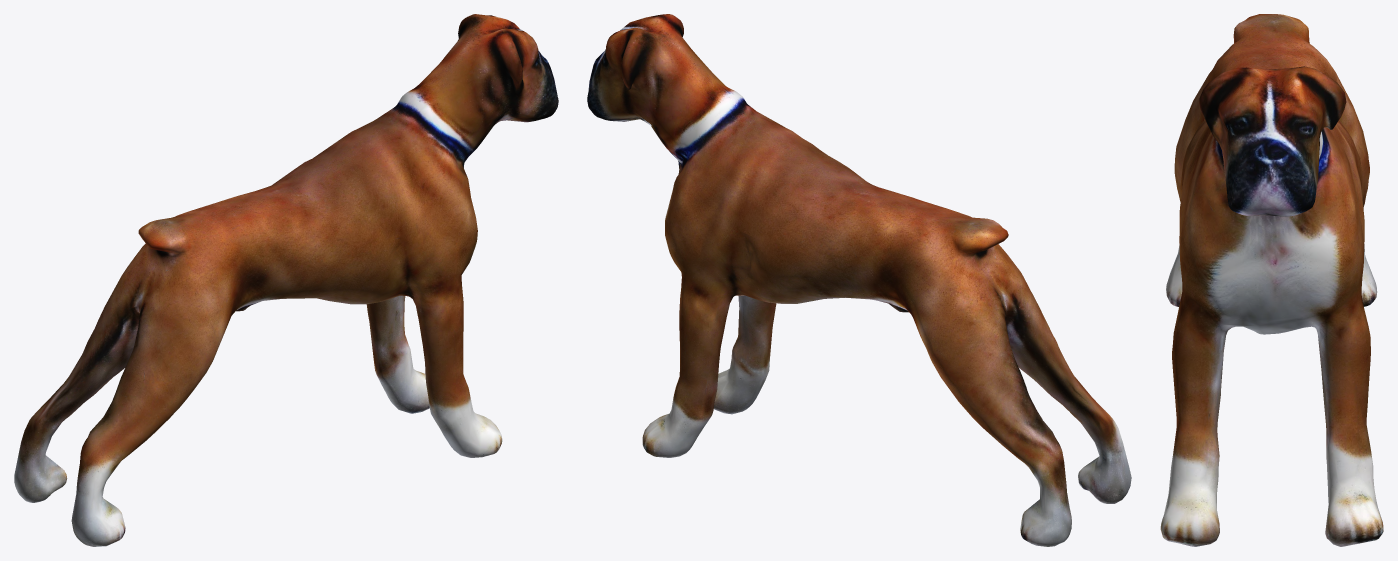
The model's file is flood-dog.glb.
The picture shows the model from 3 angles, left to right: view 1: azimuth 30°, elevation 25°; view 2: azimuth 150°, elevation 25°; view 3: azimuth 270°, elevation 25°; orthographic projection. The views are drawn at different scales.
Parts seen in each view (by area): view 1: flood-dog; view 2: flood-dog; view 3: flood-dog.
Boxes of the visible parts, x1,y1,x2,y2 form: flood-dog: (14,14,558,546); flood-dog: (587,14,1131,546); flood-dog: (1160,14,1383,546).
Size of the model in its own units: 1.56 by 1.18 by 0.4696.
Materials: 1 (1 with a texture image).
